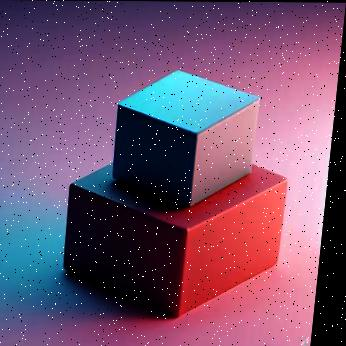cube: (111, 69, 267, 203)
